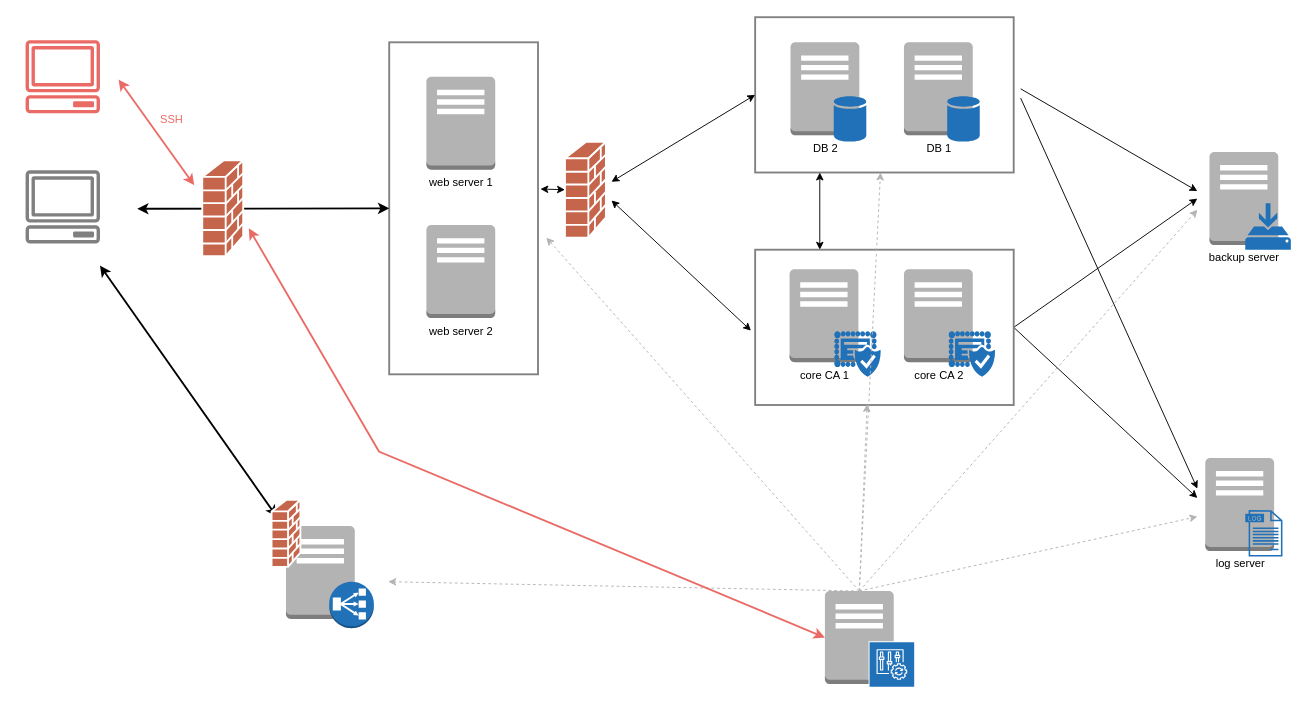
The diagram is 1307 pixels wide and 719 high, and some of its shapes have lost their labels. The box of each missing label's shape, as (x1, y1, x2, y2) in pixels:
admin: (15, 29, 109, 123)
client: (15, 159, 109, 253)
config server: (824, 590, 894, 684)
DNS server: (285, 525, 355, 619)
